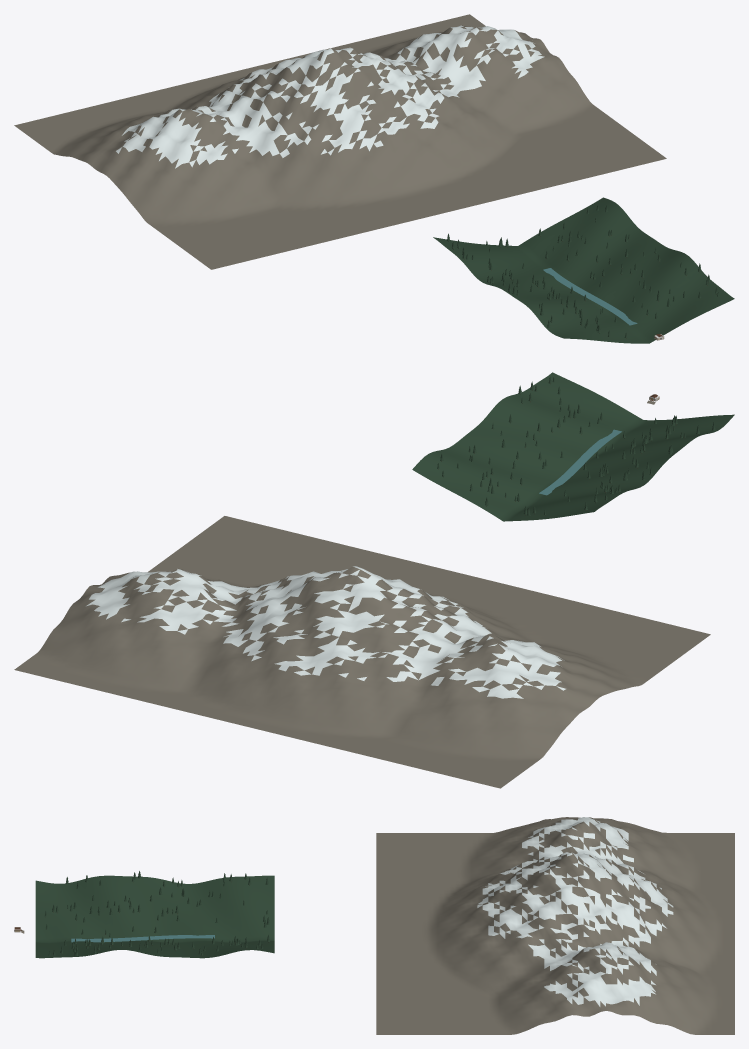
File: full.glb
3 renders of one model, top to bottom at view 1: azimuth 30°, elevation 25°; view 2: azimuth 150°, elevation 25°; view 3: azimuth 270°, elevation 25°, orthographic. The views are drawn at different scales.
Parts seen in each view (by area): view 1: VIS_E01, VIS_E02, VIS_E03; view 2: VIS_E01, VIS_E02, VIS_E03; view 3: VIS_E01, VIS_E02, VIS_E03.
Boxes of the visible parts, x1,y1,x2,y2 form: VIS_E01: (14, 14, 666, 269); VIS_E02: (433, 197, 734, 343); VIS_E03: (543, 268, 637, 325); VIS_E01: (14, 516, 710, 788); VIS_E02: (412, 372, 734, 521); VIS_E03: (539, 429, 621, 495); VIS_E01: (376, 817, 734, 1034); VIS_E02: (35, 871, 274, 958); VIS_E03: (71, 935, 214, 942).
Bounding box in the file's own units: 800 × 146 × 1206.
28 materials, 15 textured.
